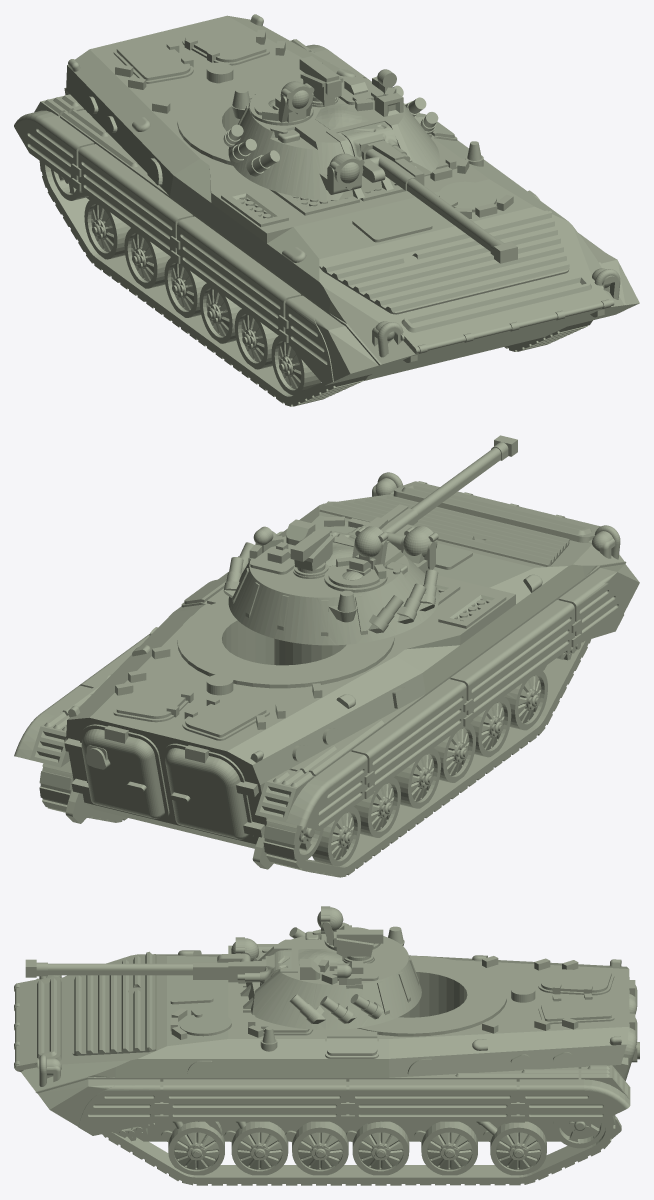
File: bmp2_bergman.glb
3 views of the same model, one above another, from view 1: azimuth 30°, elevation 25°; view 2: azimuth 150°, elevation 25°; view 3: azimuth 270°, elevation 25° (orthographic). The views are drawn at different scales.
Parts seen in each view (by area): view 1: HullMesh, TurretMesh; view 2: HullMesh, TurretMesh; view 3: HullMesh, TurretMesh.
Boxes of the visible parts, bbox=[...] form: HullMesh: bbox=[14, 14, 639, 406]; TurretMesh: bbox=[223, 56, 517, 263]; HullMesh: bbox=[14, 472, 639, 877]; TurretMesh: bbox=[223, 435, 517, 665]; HullMesh: bbox=[14, 944, 639, 1185]; TurretMesh: bbox=[25, 906, 421, 1029].
Size of the model in its own units: 3.34 by 2.62 by 7.14.
